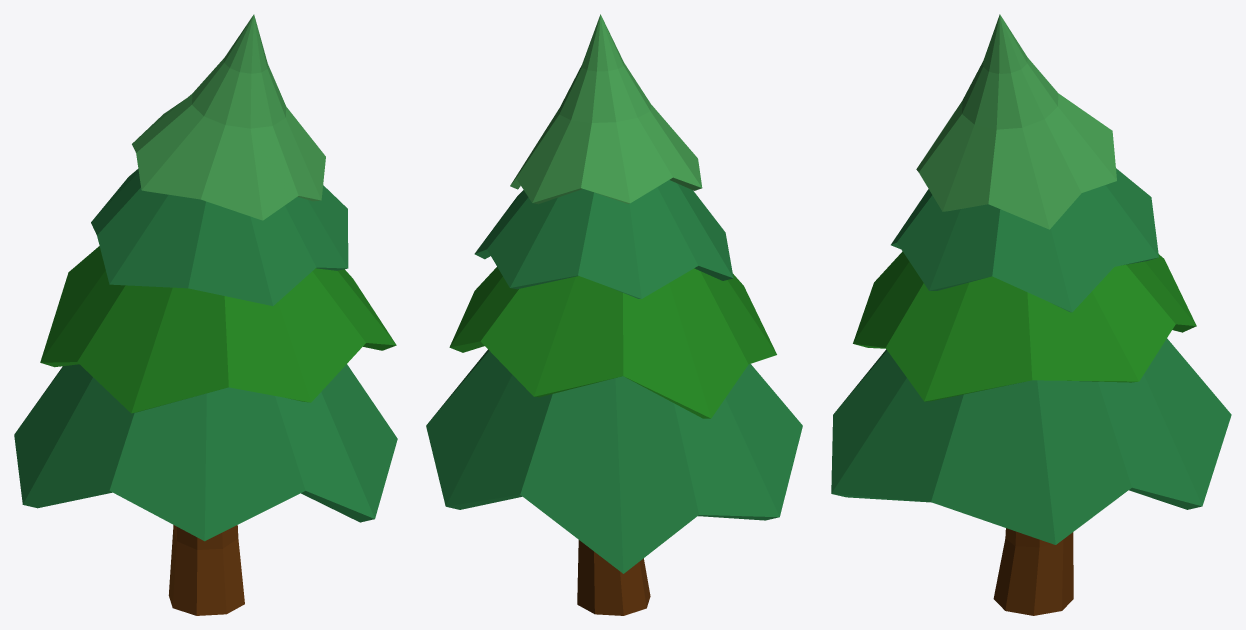
The model's file is pine_tree_3.glb.
The picture shows the model from 3 angles, left to right: view 1: azimuth 30°, elevation 25°; view 2: azimuth 150°, elevation 25°; view 3: azimuth 270°, elevation 25°; orthographic projection. The views are drawn at different scales.
Parts seen in each view (by area): view 1: pine_tree_3; view 2: pine_tree_3; view 3: pine_tree_3.
Boxes of the visible parts, x1=… form: pine_tree_3: x1=14, y1=14, x2=397, y2=615; pine_tree_3: x1=426, y1=14, x2=802, y2=615; pine_tree_3: x1=831, y1=14, x2=1231, y2=615.
Bounding box in the file's own units: 6.03 × 9.66 × 5.84.
